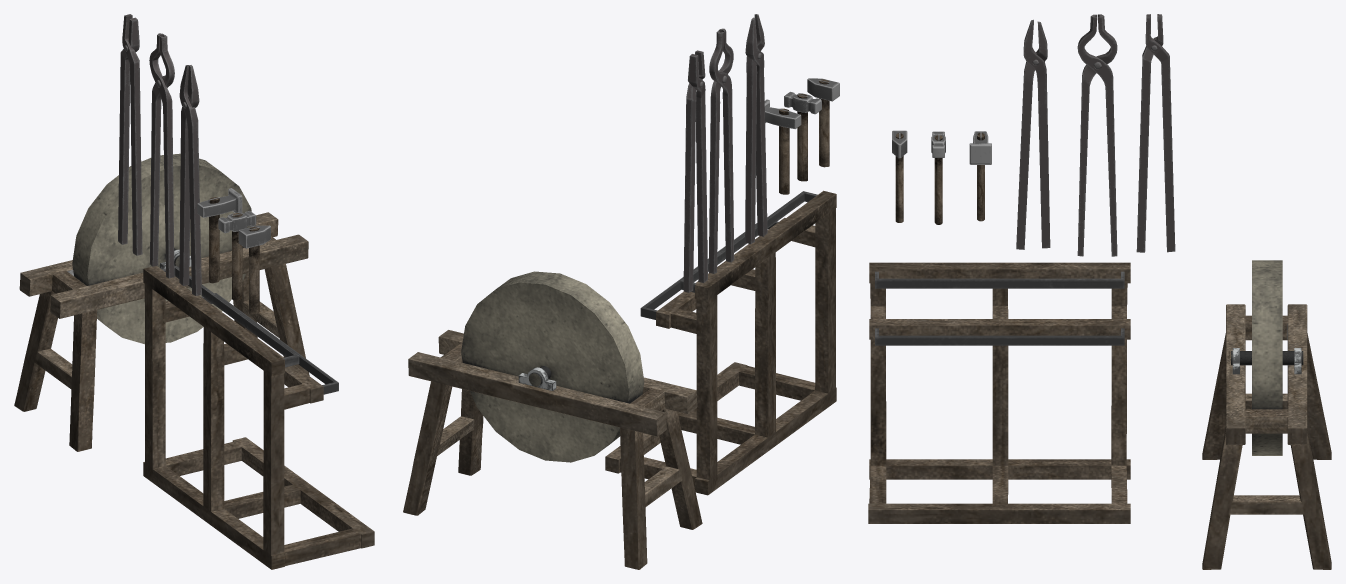
Rendered from tools (1).glb.
3 renders of one model, left to right at view 1: azimuth 30°, elevation 25°; view 2: azimuth 150°, elevation 25°; view 3: azimuth 270°, elevation 25°, orthographic.
Parts seen in each view (by area): view 1: tool_rack, sharpening_stone1, flat_tongs, bar_tongs, skinny_tongs, flatter_hammer, straight_peen_hammer, ball_pein_hammer; view 2: sharpening_stone1, tool_rack, flat_tongs, bar_tongs, skinny_tongs, flatter_hammer, ball_pein_hammer, straight_peen_hammer; view 3: tool_rack, sharpening_stone1, flat_tongs, skinny_tongs, bar_tongs, flatter_hammer, straight_peen_hammer, ball_pein_hammer.
Part boxes in pixels (x1=…): tool_rack: x1=143, y1=266, x2=374, y2=569; sharpening_stone1: x1=14, y1=153, x2=309, y2=451; flat_tongs: x1=118, y1=14, x2=142, y2=255; bar_tongs: x1=149, y1=33, x2=174, y2=278; skinny_tongs: x1=179, y1=65, x2=201, y2=295; flatter_hammer: x1=197, y1=188, x2=242, y2=283; straight_peen_hammer: x1=238, y1=225, x2=270, y2=314; ball_pein_hammer: x1=218, y1=211, x2=256, y2=300; sharpening_stone1: x1=403, y1=271, x2=702, y2=569; tool_rack: x1=605, y1=190, x2=836, y2=495; flat_tongs: x1=683, y1=50, x2=707, y2=292; bar_tongs: x1=708, y1=28, x2=734, y2=273; skinny_tongs: x1=745, y1=14, x2=767, y2=244; flatter_hammer: x1=764, y1=99, x2=801, y2=194; ball_pein_hammer: x1=784, y1=91, x2=821, y2=181; straight_peen_hammer: x1=807, y1=78, x2=839, y2=167; tool_rack: x1=868, y1=262, x2=1130, y2=523; sharpening_stone1: x1=1202, y1=260, x2=1331, y2=569; flat_tongs: x1=1136, y1=14, x2=1175, y2=252; skinny_tongs: x1=1016, y1=19, x2=1050, y2=249; bar_tongs: x1=1077, y1=14, x2=1117, y2=256; flatter_hammer: x1=969, y1=131, x2=991, y2=221; straight_peen_hammer: x1=892, y1=130, x2=907, y2=222; ball_pein_hammer: x1=931, y1=131, x2=945, y2=224.
Bounding box in the file's own units: 190 × 329 × 301.
1 material, 1 textured.
